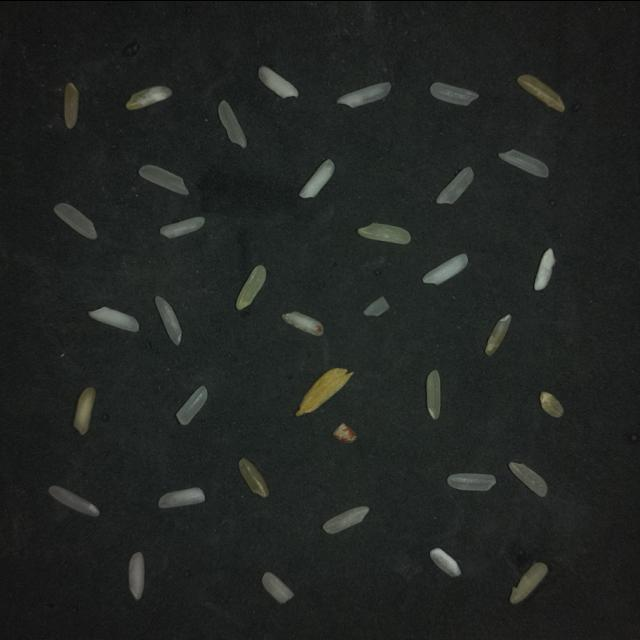broken: (435, 166, 472, 203), (175, 386, 207, 424), (261, 571, 293, 602), (281, 311, 322, 335), (159, 216, 204, 237), (158, 487, 204, 507), (128, 551, 144, 599), (363, 296, 388, 315)
chalky: (421, 253, 467, 283), (298, 159, 334, 197), (87, 306, 138, 331), (258, 66, 297, 97), (534, 247, 555, 290), (429, 547, 460, 576)
discolored: (516, 74, 564, 111), (235, 264, 265, 309), (238, 457, 268, 496), (484, 314, 510, 355), (125, 86, 170, 109), (73, 387, 95, 433), (63, 82, 78, 128), (425, 369, 439, 418), (539, 391, 562, 416)
paddy: (295, 367, 352, 415)
red: (332, 422, 355, 442)
whole: (509, 562, 547, 603), (53, 202, 96, 238), (48, 485, 99, 515), (138, 164, 188, 193), (497, 149, 547, 176), (217, 100, 245, 147), (321, 506, 369, 533), (336, 82, 390, 106), (508, 462, 546, 496), (154, 296, 180, 344), (356, 222, 410, 243), (429, 82, 477, 105), (446, 472, 495, 490)
